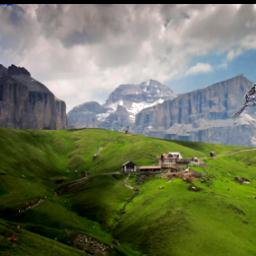Sparrow: (230, 65, 256, 130)
